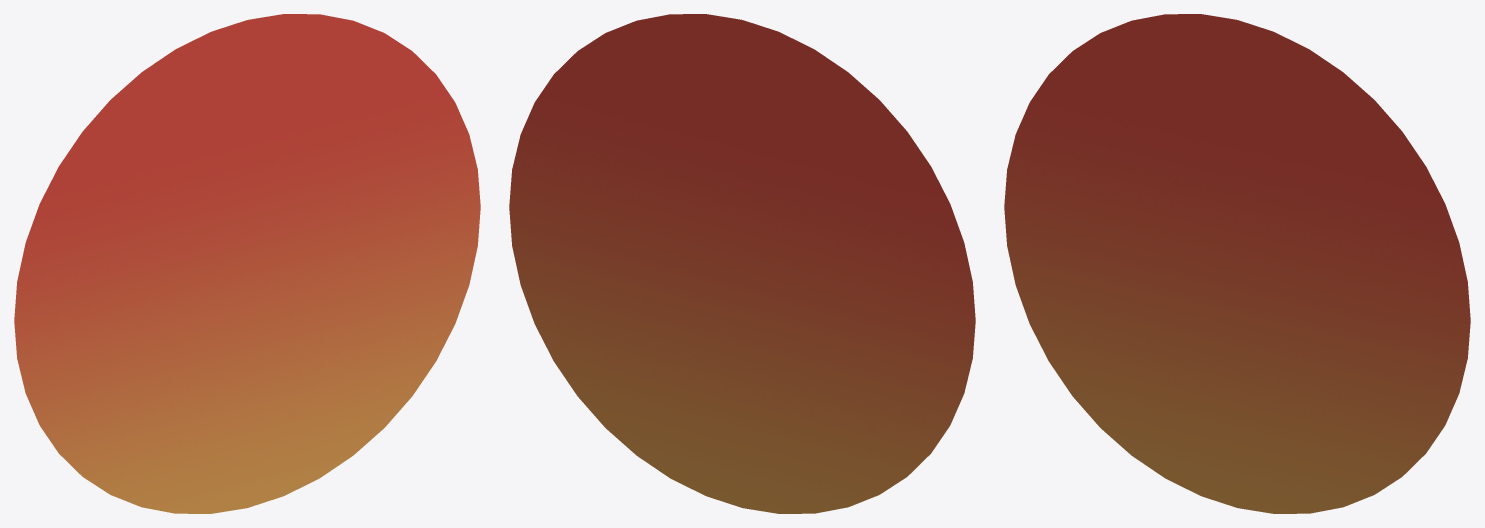
File: MOD_CompositionDisc.fbx
3 views of the same model, side by side, from view 1: azimuth 30°, elevation 25°; view 2: azimuth 150°, elevation 25°; view 3: azimuth 330°, elevation 25° (orthographic).
Visible parts, largest first — view 1: pSphere1; view 2: pSphere1; view 3: pSphere1.
Boxes of the visible parts, bbox=[...] form: pSphere1: bbox=[14, 14, 480, 513]; pSphere1: bbox=[509, 14, 975, 513]; pSphere1: bbox=[1004, 14, 1470, 513].
Bounding box in the file's own units: 34.14 × 34.14 × 2.62e-06.
1 material, 1 textured.
